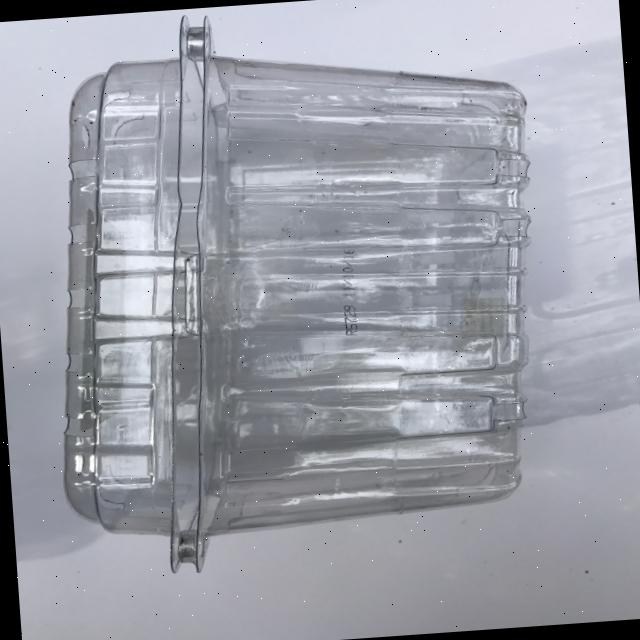plastic: (30, 0, 558, 581)
